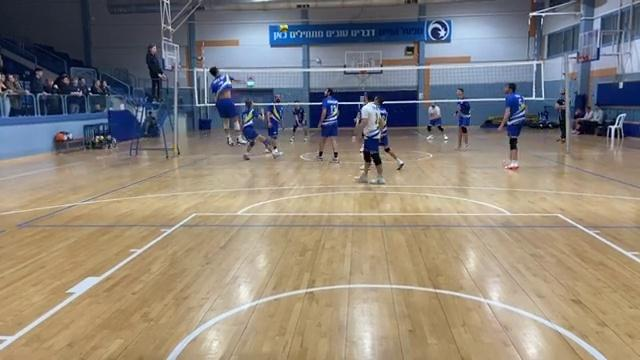ball: (277, 22, 291, 34)
